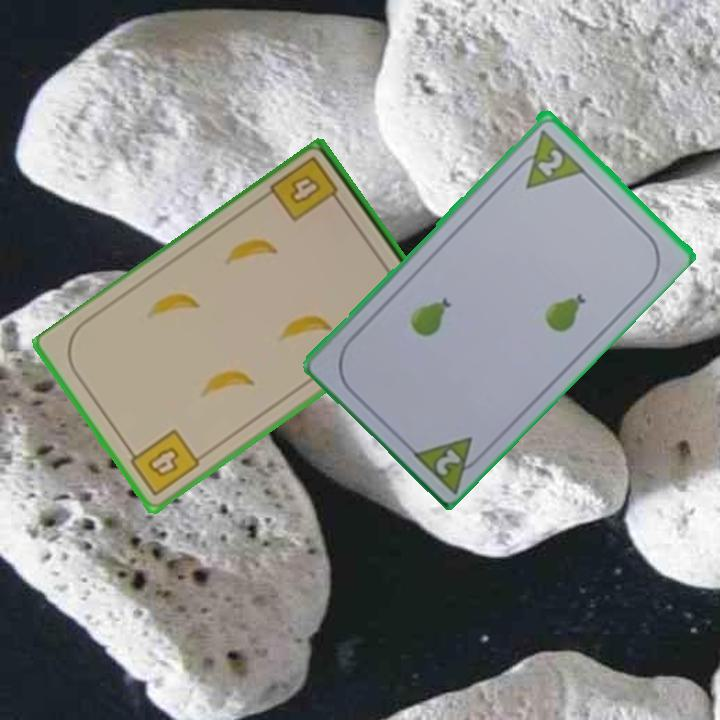2p: (533, 145, 567, 179), (431, 444, 464, 478)
4b: (123, 425, 203, 500), (267, 153, 347, 226)
